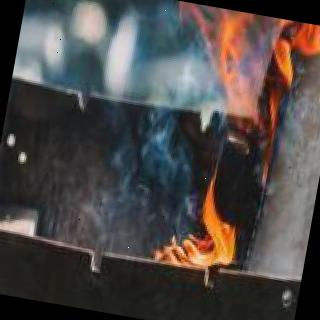fire: (103, 0, 320, 288)
